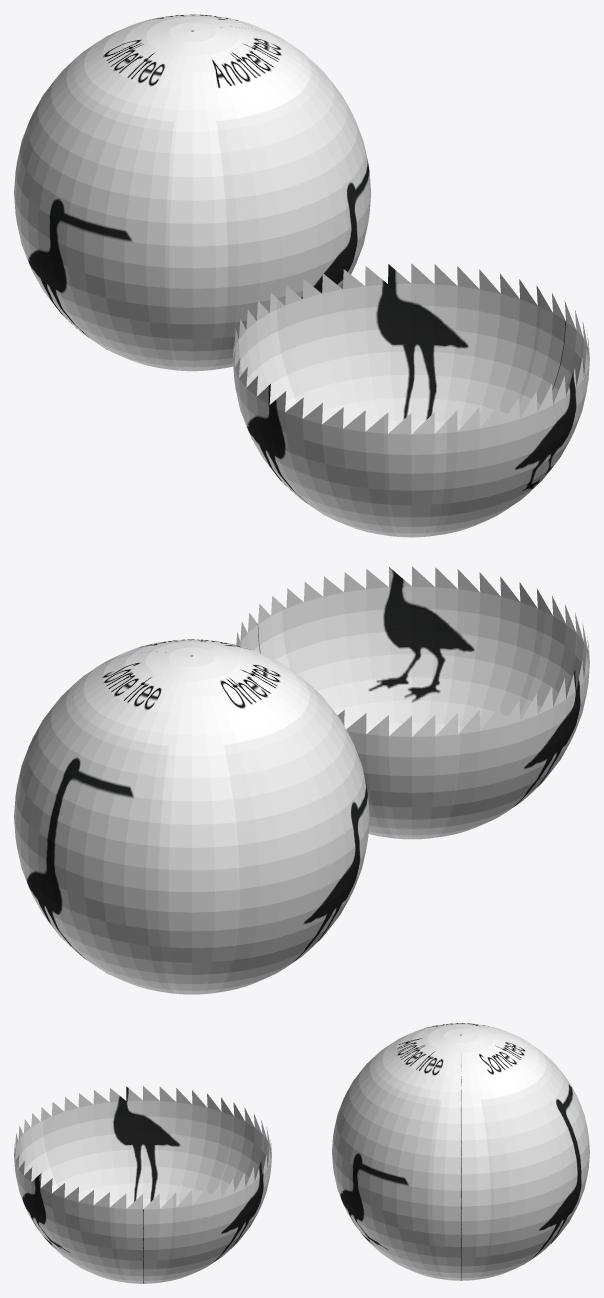
File: sphereTextureTest.dae
The picture shows the model from 3 angles, top to bottom: view 1: azimuth 30°, elevation 25°; view 2: azimuth 150°, elevation 25°; view 3: azimuth 270°, elevation 25°; orthographic projection. The views are drawn at different scales.
Parts seen in each view (by area): view 1: testsphere, SketchUp; view 2: testsphere, SketchUp; view 3: testsphere, SketchUp.
Boxes of the visible parts, x1,y1,x2,y2 form: testsphere: [14, 14, 370, 371]; SketchUp: [233, 263, 589, 537]; testsphere: [14, 639, 369, 994]; SketchUp: [236, 566, 589, 839]; testsphere: [332, 1023, 589, 1280]; SketchUp: [14, 1086, 271, 1283].
Bounding box in the file's own units: 790 × 1757 × 799.
1 material, 1 textured.
